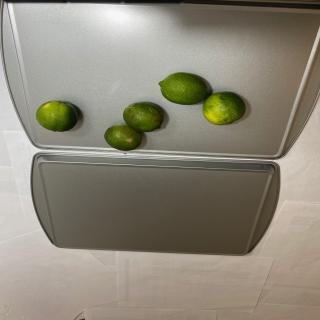Apple: (36, 100, 78, 132)
Lemon: (158, 72, 208, 105), (202, 91, 246, 126), (123, 101, 164, 132), (104, 124, 142, 151)
